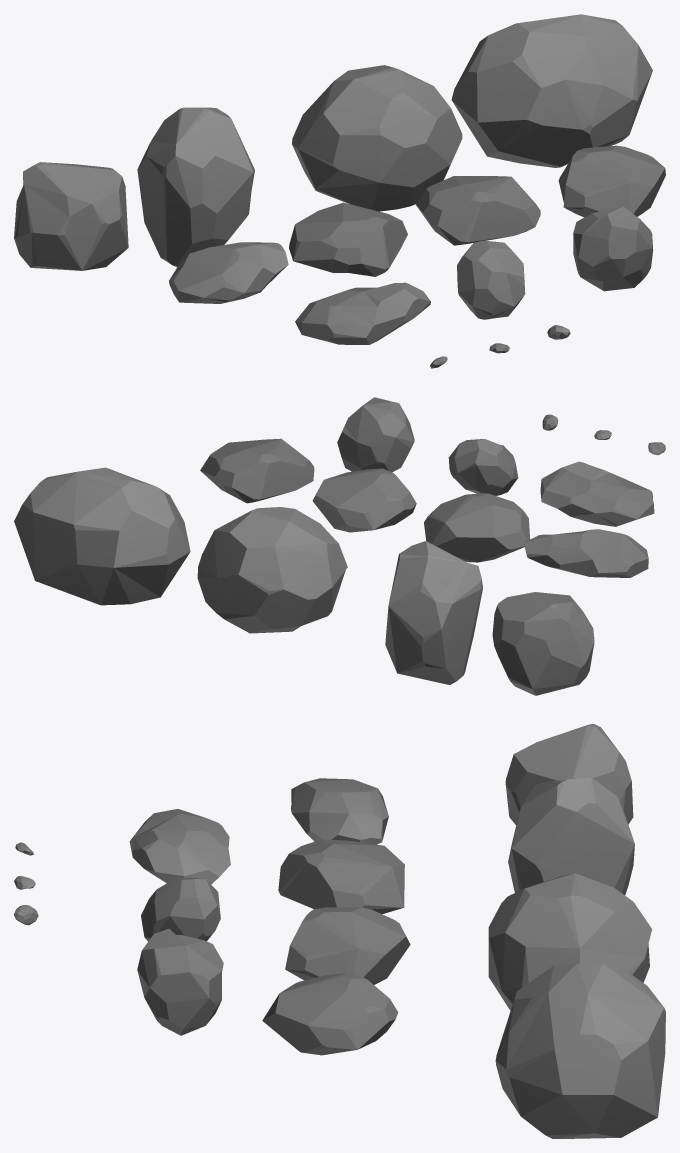
Rendered from low poly rocks for itch.glb.
3 renders of one model, top to bottom at view 1: azimuth 30°, elevation 25°; view 2: azimuth 150°, elevation 25°; view 3: azimuth 270°, elevation 25°, orthographic. The views are drawn at different scales.
Visible parts, largest first — view 1: Rock.001, Rock.003, Rock.002, Rock, Rock.007, Rock.008, Rock.006, Rock.009, Rock.010, Rock.004, Rock.005; view 2: Rock.001, Rock.003, Rock.002, Rock, Rock.007, Rock.006, Rock.009, Rock.008, Rock.010, Rock.004, Rock.005; view 3: Rock.001, Rock.003, Rock.002, Rock.006, Rock.007, Rock.008, Rock.004, Rock, Rock.009, Rock.010, Rock.005.
Part boxes in pixels (x1=…): Rock.001: x1=451, y1=14, x2=652, y2=167; Rock.003: x1=292, y1=65, x2=462, y2=211; Rock.002: x1=137, y1=107, x2=254, y2=267; Rock: x1=14, y1=162, x2=128, y2=270; Rock.007: x1=289, y1=202, x2=407, y2=276; Rock.008: x1=415, y1=176, x2=540, y2=245; Rock.006: x1=558, y1=145, x2=665, y2=217; Rock.009: x1=295, y1=282, x2=430, y2=344; Rock.010: x1=169, y1=242, x2=288, y2=303; Rock.004: x1=573, y1=206, x2=653, y2=291; Rock.005: x1=457, y1=240, x2=525, y2=319; Rock.001: x1=14, y1=467, x2=190, y2=605; Rock.003: x1=197, y1=507, x2=347, y2=633; Rock.002: x1=385, y1=541, x2=482, y2=684; Rock: x1=492, y1=592, x2=594, y2=695; Rock.007: x1=424, y1=493, x2=530, y2=562; Rock.006: x1=200, y1=438, x2=314, y2=503; Rock.009: x1=540, y1=461, x2=654, y2=526; Rock.008: x1=312, y1=468, x2=416, y2=532; Rock.010: x1=524, y1=529, x2=648, y2=577; Rock.004: x1=337, y1=397, x2=414, y2=472; Rock.005: x1=448, y1=439, x2=518, y2=495; Rock.001: x1=495, y1=963, x2=665, y2=1138; Rock.003: x1=488, y1=873, x2=651, y2=1010; Rock.002: x1=508, y1=777, x2=634, y2=895; Rock.006: x1=262, y1=973, x2=398, y2=1055; Rock.007: x1=278, y1=839, x2=404, y2=914; Rock.008: x1=285, y1=907, x2=410, y2=984; Rock.004: x1=137, y1=928, x2=223, y2=1035; Rock: x1=505, y1=724, x2=633, y2=825; Rock.009: x1=129, y1=809, x2=230, y2=884; Rock.010: x1=291, y1=778, x2=388, y2=844; Rock.005: x1=141, y1=877, x2=220, y2=941.
Bounding box in the file's own units: 10.29 × 2.39 × 8.38.
Materials: 1 (1 with a texture image).
